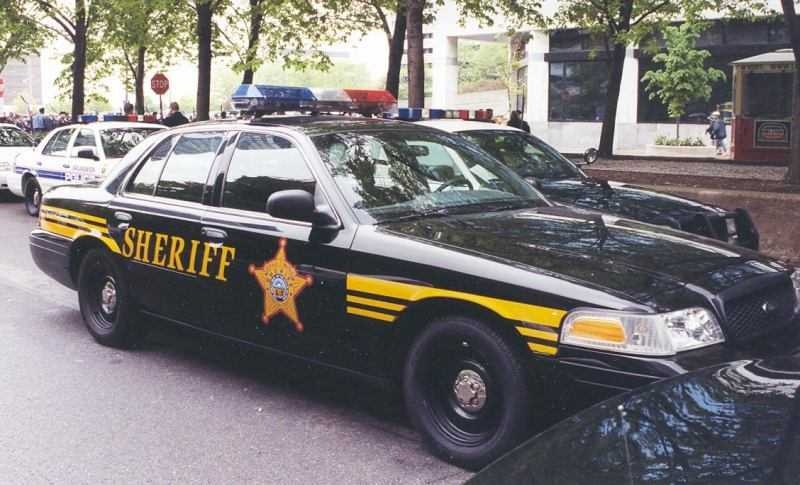Police Car: (7, 68, 795, 446)
